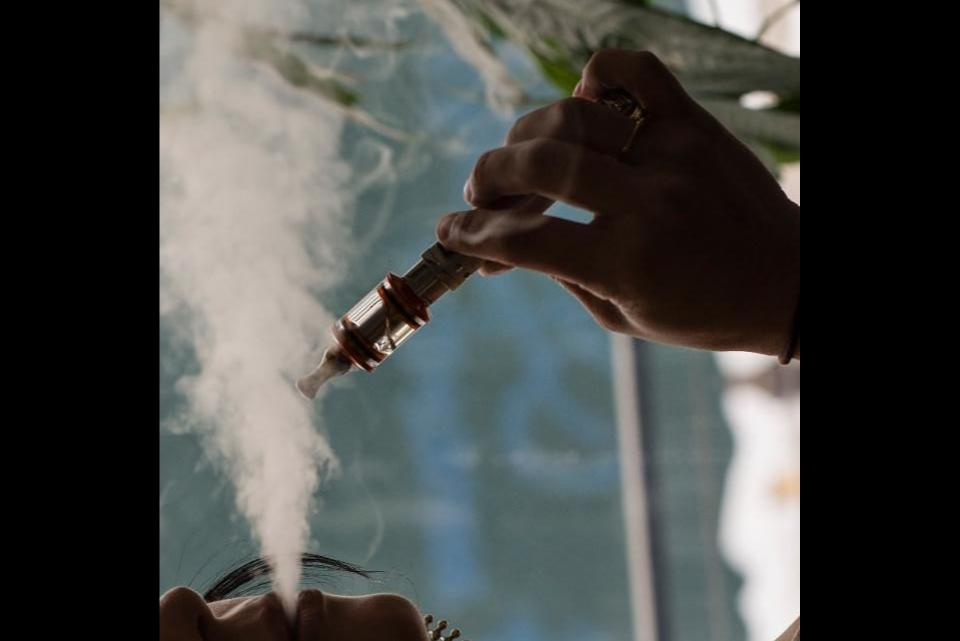Smoke: (165, 0, 313, 596)
Vape: (289, 236, 472, 411)
